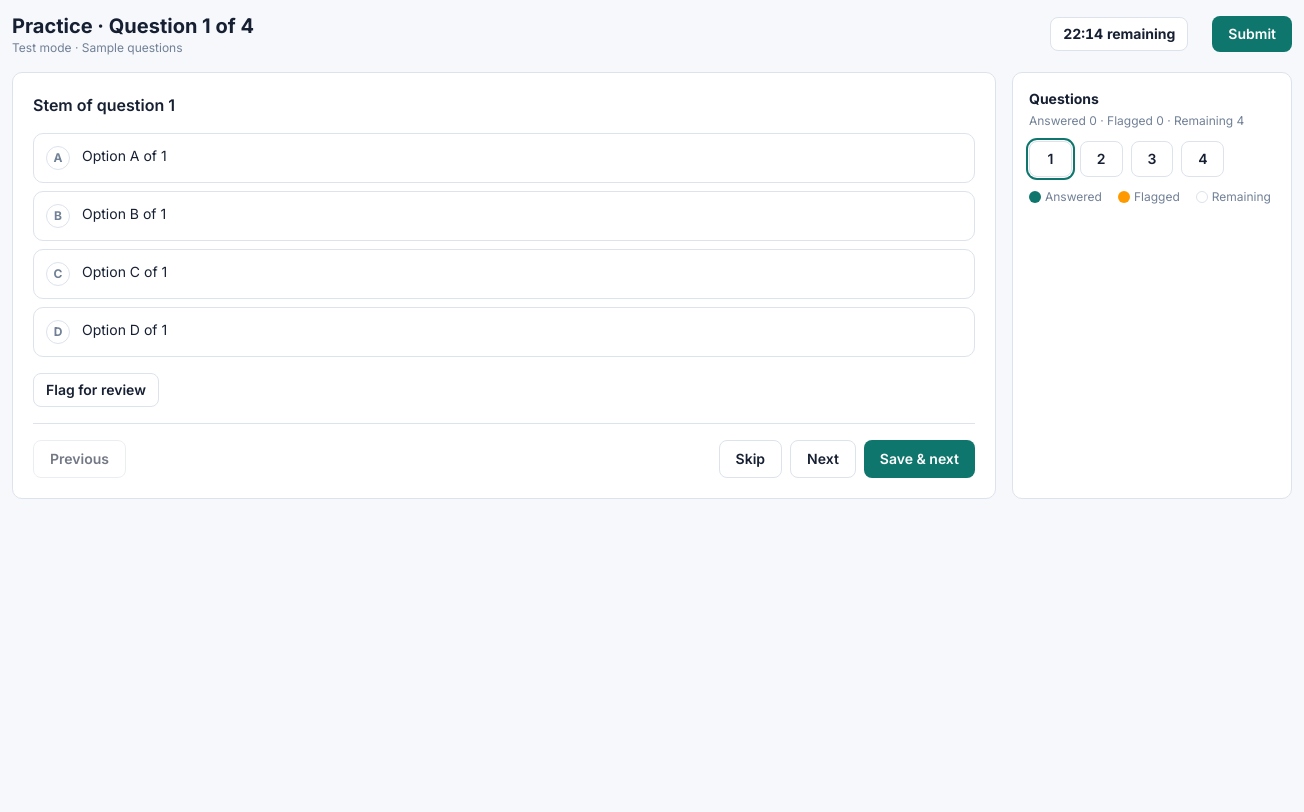
Test: Workspace answering and autosave › the Retry button saves immediately
Click the radio button labelled "A Option A of 1" at (124, 156), box [33, 133, 975, 183]
Wait 800 ms
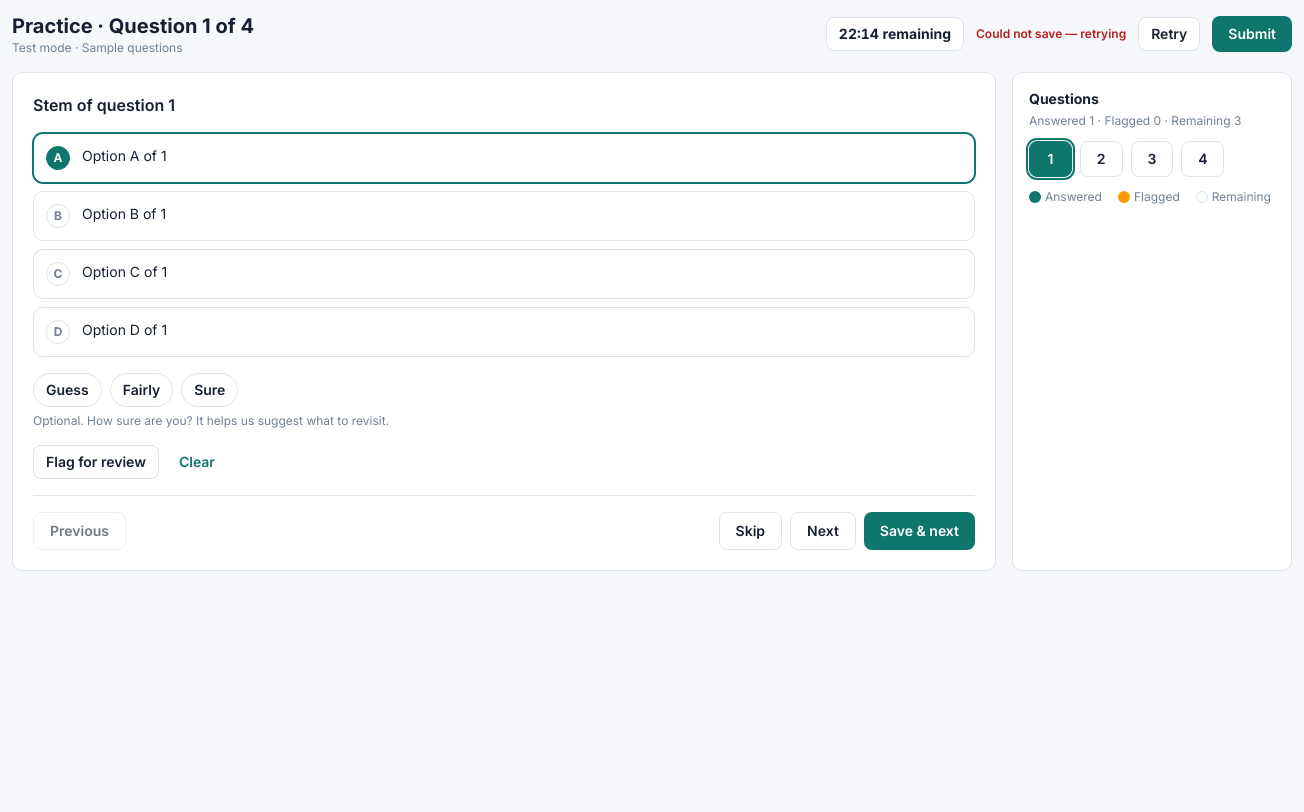
Click the button "Retry" at (1169, 34), box [1138, 17, 1200, 51]
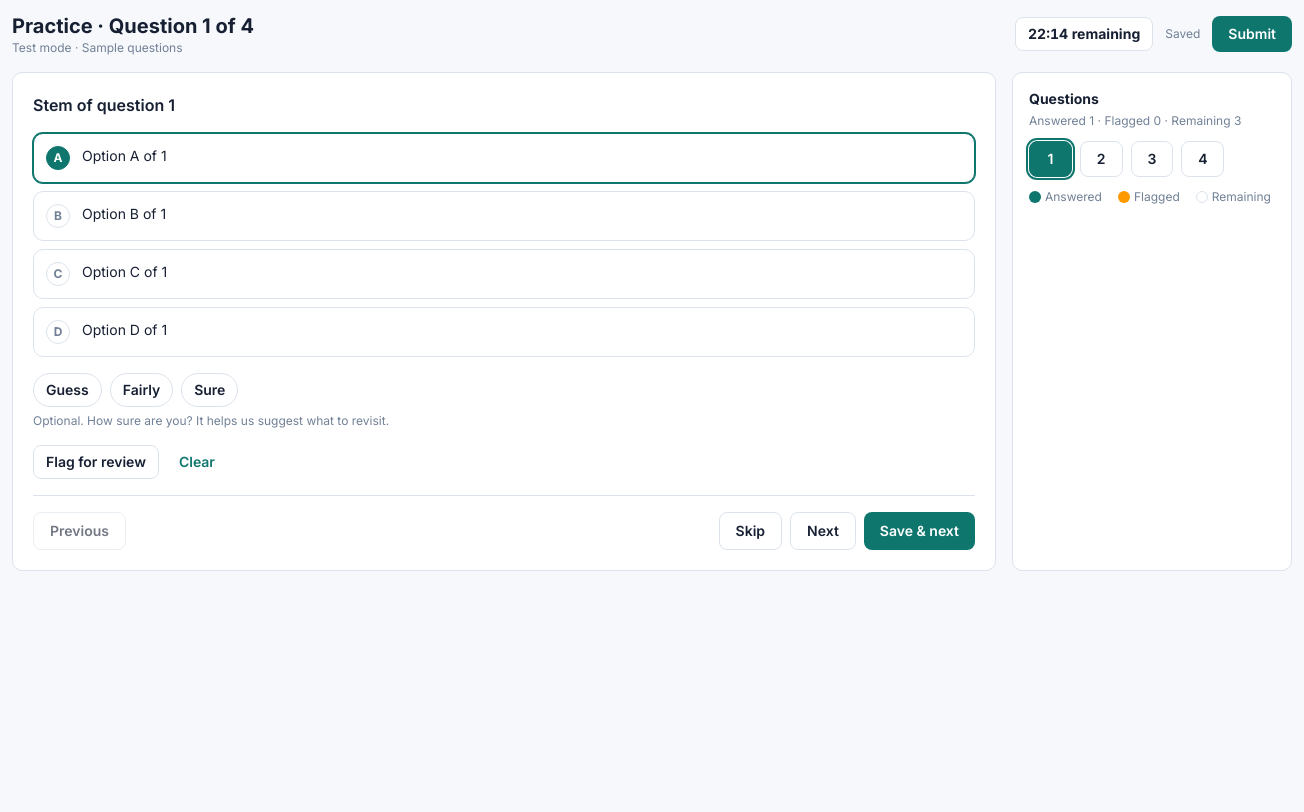
Check: the text with test id "save-status" reads "Saved", box [1165, 26, 1200, 41]
